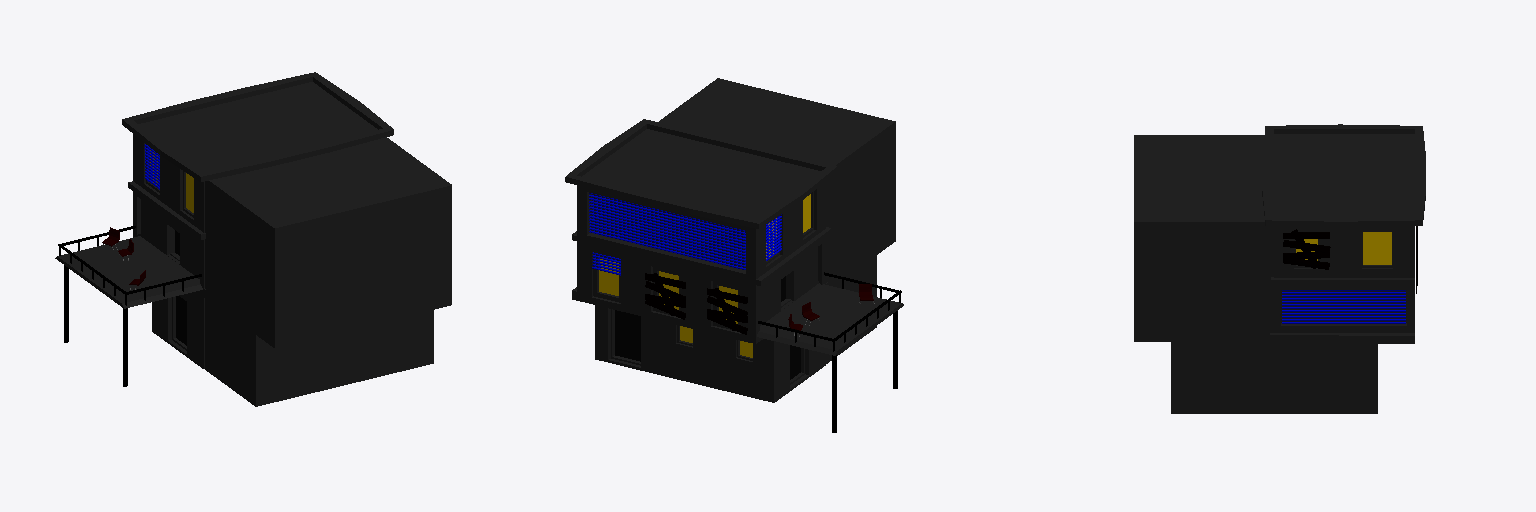
The model's file is generic-bar.obj.
3 views of the same model, side by side, from view 1: azimuth 30°, elevation 25°; view 2: azimuth 150°, elevation 25°; view 3: azimuth 270°, elevation 25° (orthographic).
Visible parts, largest first — view 1: BuildingBacking.003_Cube.107, FirstHouse.003_Cube.103, Cylinder.022_Cylinder.046; view 2: FirstHouse.003_Cube.103, BuildingBacking.003_Cube.107, BigBars.003_Vert.287, Plane.054_Plane.090, Plane.053_Plane.086, Cylinder.022_Cylinder.046; view 3: FirstHouse.003_Cube.103, BuildingBacking.003_Cube.107, Vert.263_Vert.290, Plane.055_Plane.091.
Boxes of the visible parts, <box> form: BuildingBacking.003_Cube.107: <box>205,137,451,406</box>; FirstHouse.003_Cube.103: <box>55,72,393,368</box>; Cylinder.022_Cylinder.046: <box>58,226,201,305</box>; FirstHouse.003_Cube.103: <box>565,119,903,402</box>; BuildingBacking.003_Cube.107: <box>659,78,895,363</box>; BigBars.003_Vert.287: <box>589,193,745,269</box>; Plane.054_Plane.090: <box>645,273,685,319</box>; Plane.053_Plane.086: <box>707,288,747,334</box>; Cylinder.022_Cylinder.046: <box>758,272,901,351</box>; FirstHouse.003_Cube.103: <box>1262,124,1425,413</box>; BuildingBacking.003_Cube.107: <box>1134,135,1273,413</box>; Vert.263_Vert.290: <box>1282,290,1405,323</box>; Plane.055_Plane.091: <box>1283,229,1330,269</box>.
Size of the model in its own units: 14.16 by 10.05 by 13.37.